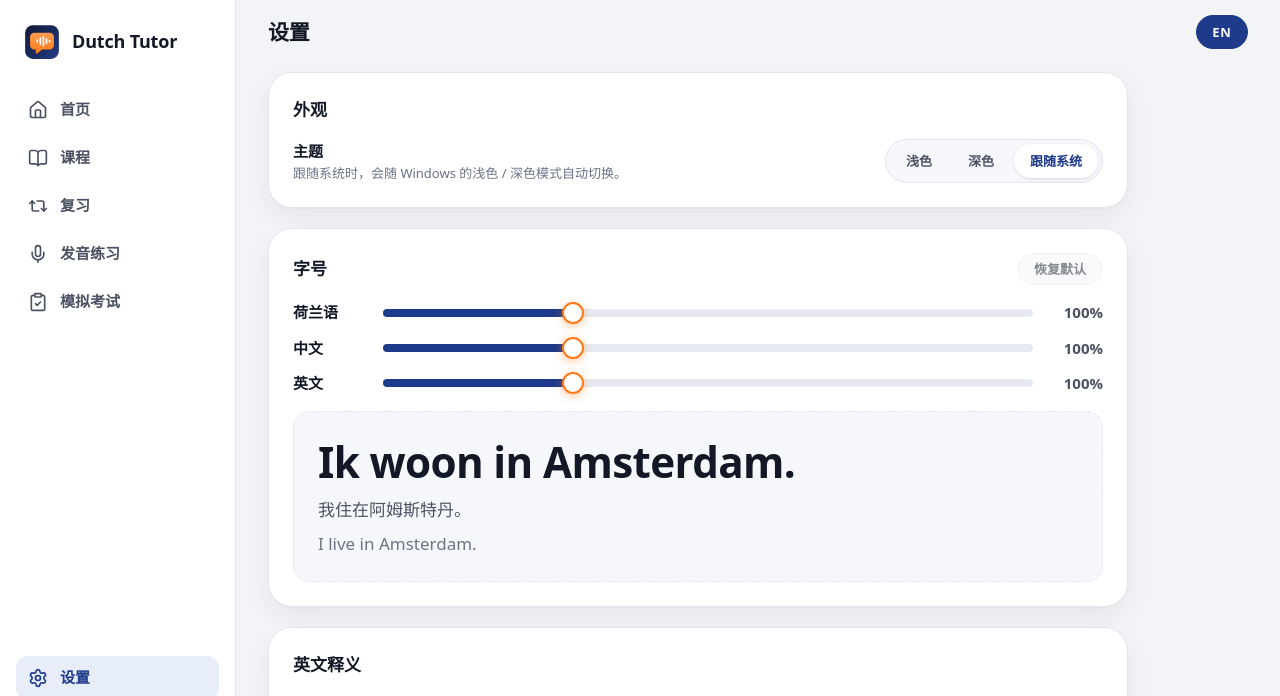
Test case: SettingsPage › font sliders apply at once and are saved
Set the slider named "荷兰语字号" to "1.3" at point(844, 313), box x1=383 y1=309 x2=1033 y2=317
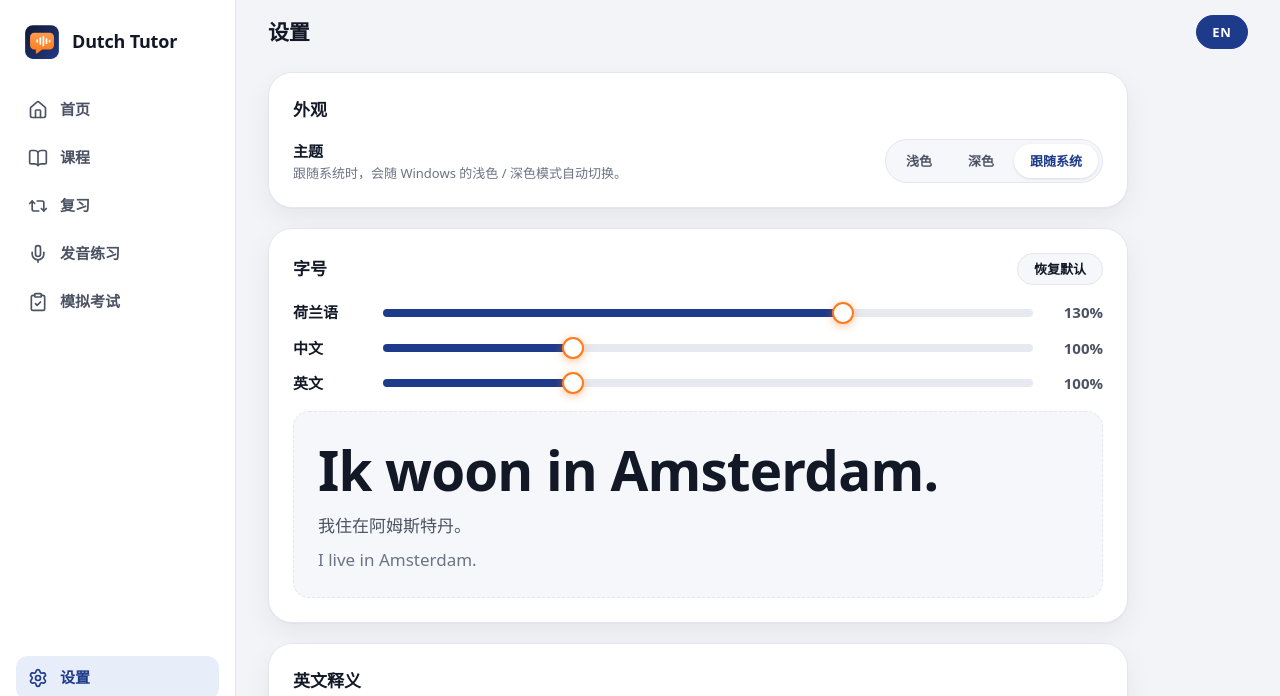
Expected: the text "130%" is shown, x1=1064 y1=302 x2=1103 y2=322
